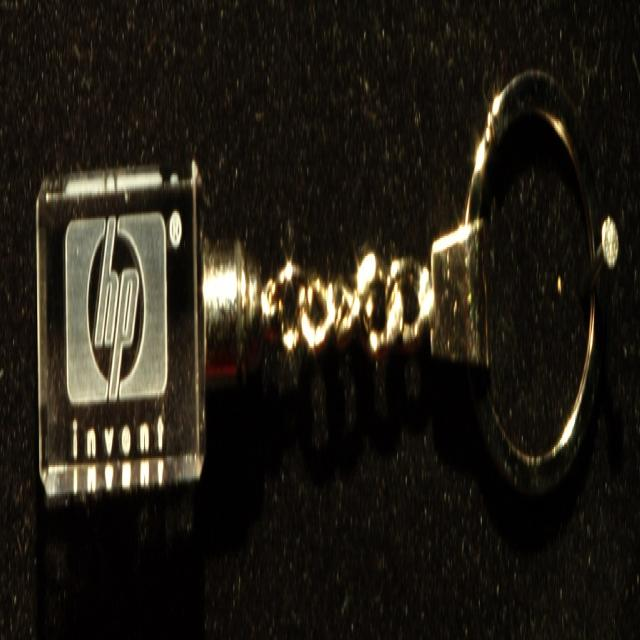HP: (64, 212, 169, 410)
